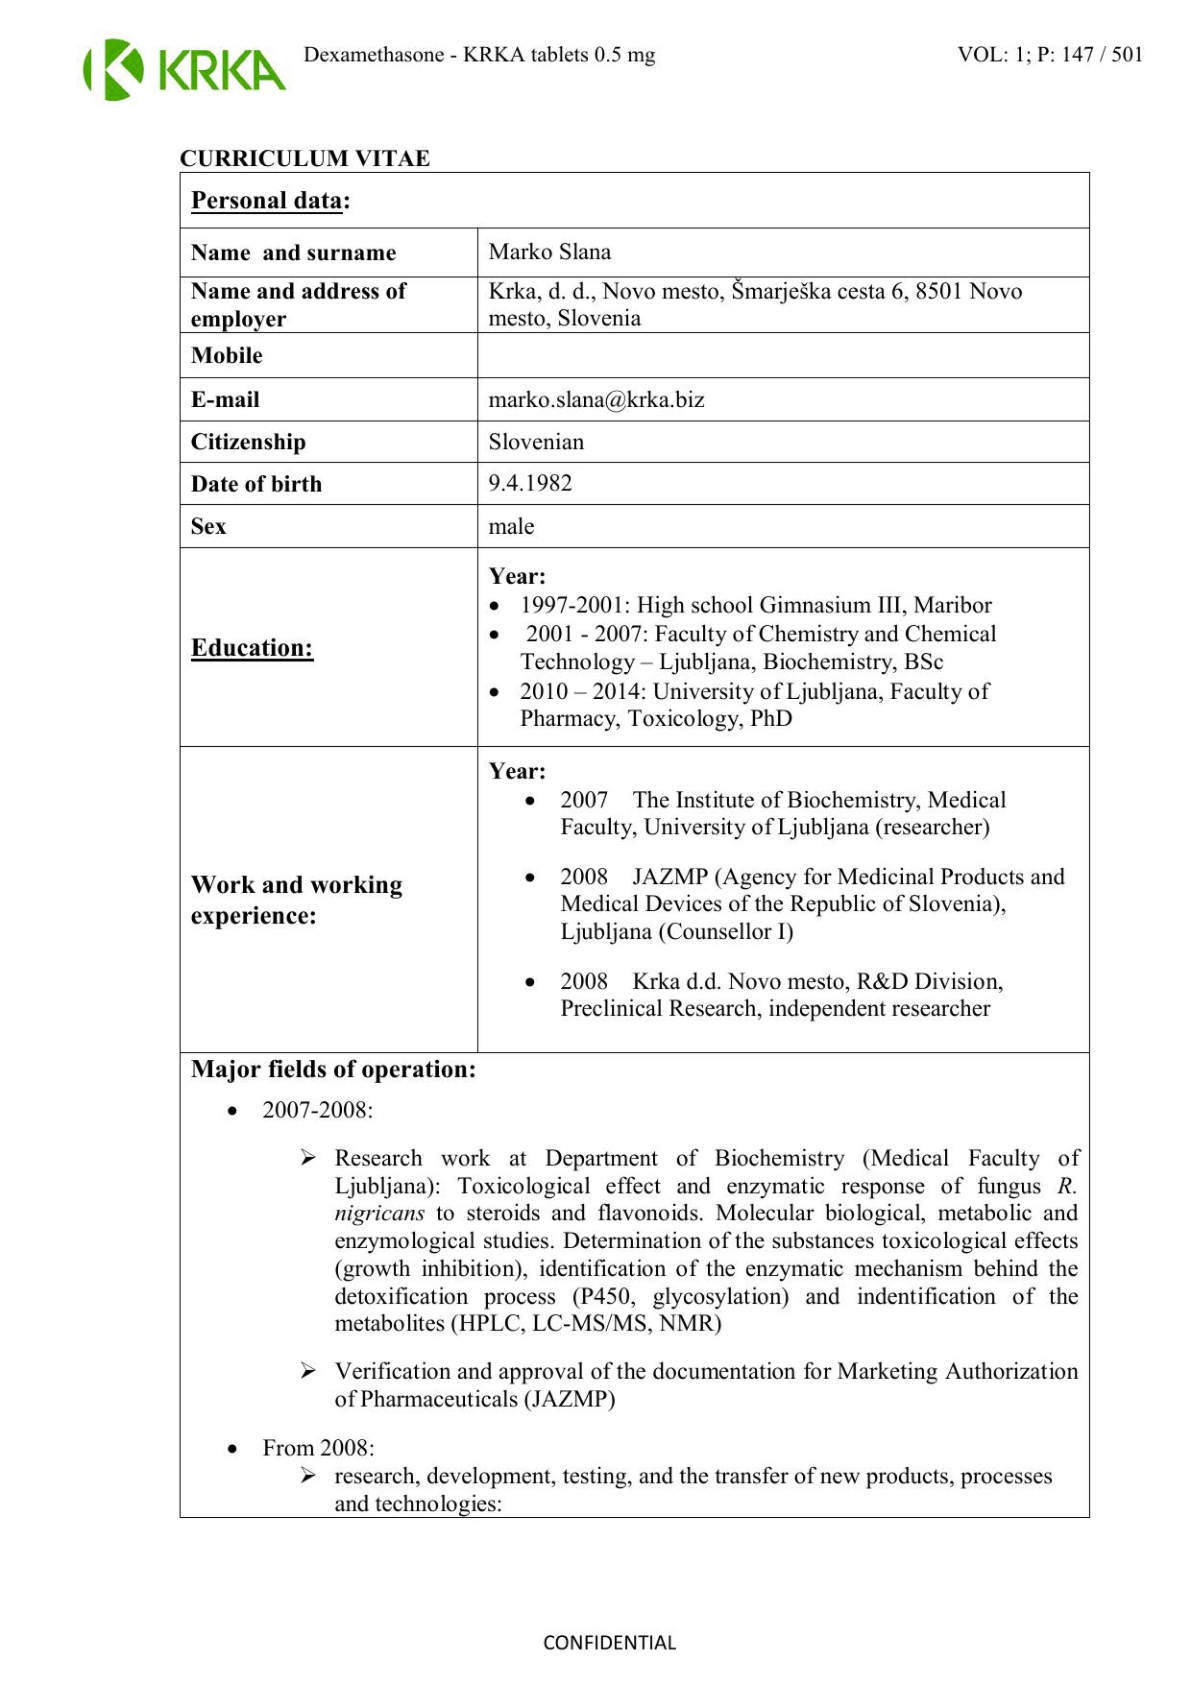merged_cells: (177, 170, 1091, 1520)
